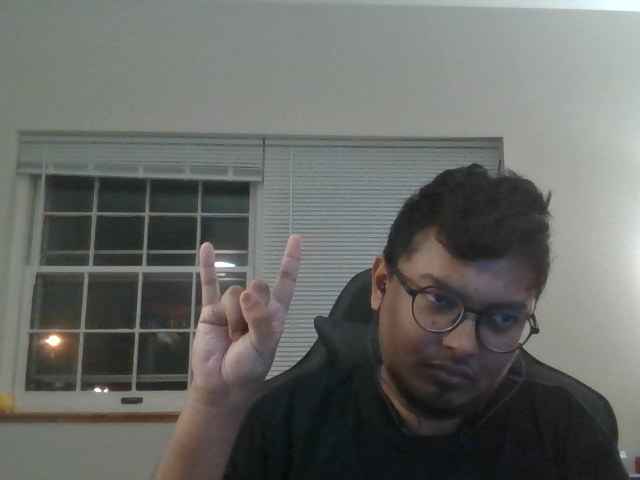ilikeyou: (183, 230, 310, 401)
